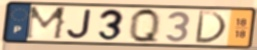3: (97, 7, 128, 42), (164, 9, 192, 43)
D: (193, 9, 229, 45)
J: (66, 8, 94, 40)
M: (23, 6, 69, 41)
Q: (129, 7, 161, 45)
